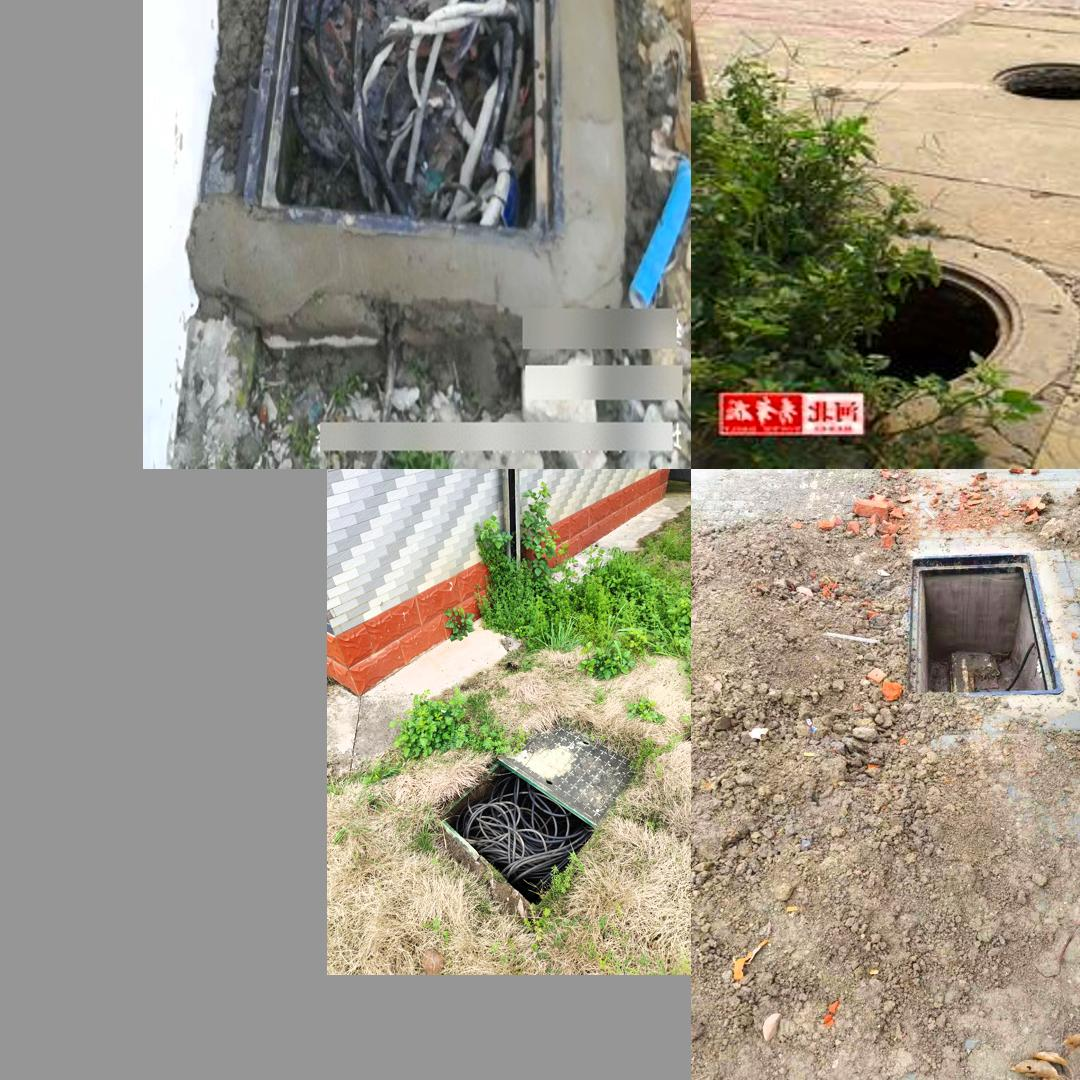lose: (236, 0, 564, 245), (742, 230, 1069, 429), (867, 537, 1080, 742), (437, 757, 597, 907), (976, 48, 1080, 113)
